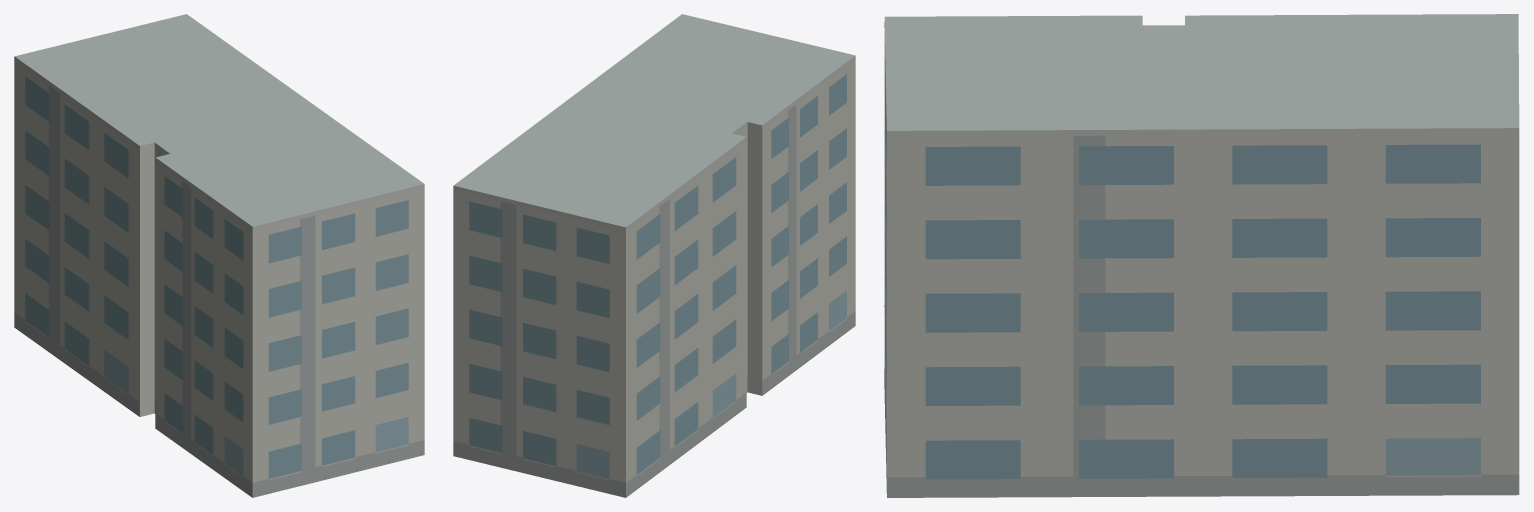
The model's file is survey-upis-32985065.glb.
The picture shows the model from 3 angles, left to right: view 1: azimuth 30°, elevation 25°; view 2: azimuth 150°, elevation 25°; view 3: azimuth 270°, elevation 25°; orthographic projection. The views are drawn at different scales.
Visible parts, largest first — view 1: survey-upis-32985065.tmp; view 2: survey-upis-32985065.tmp; view 3: survey-upis-32985065.tmp.
Boxes of the visible parts, box(x1,y1,x2,y2) form: survey-upis-32985065.tmp: box(14, 14, 424, 497); survey-upis-32985065.tmp: box(453, 14, 855, 497); survey-upis-32985065.tmp: box(884, 14, 1519, 497).
Bounding box in the file's own units: 10.43 × 15.25 × 23.92.
